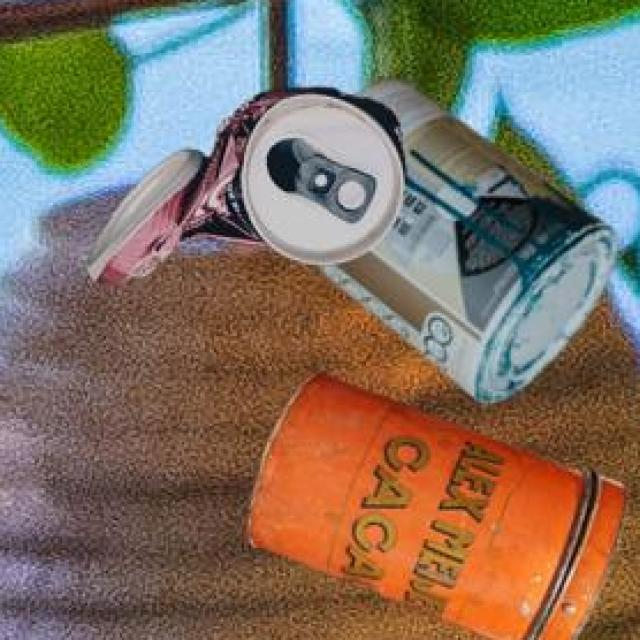logam: (252, 374, 630, 640), (312, 82, 618, 404), (91, 91, 409, 287)
